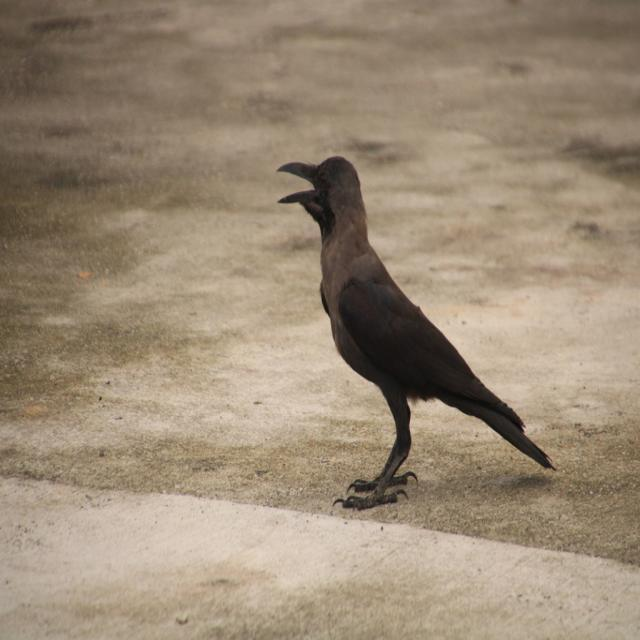bird: (272, 148, 560, 514)
